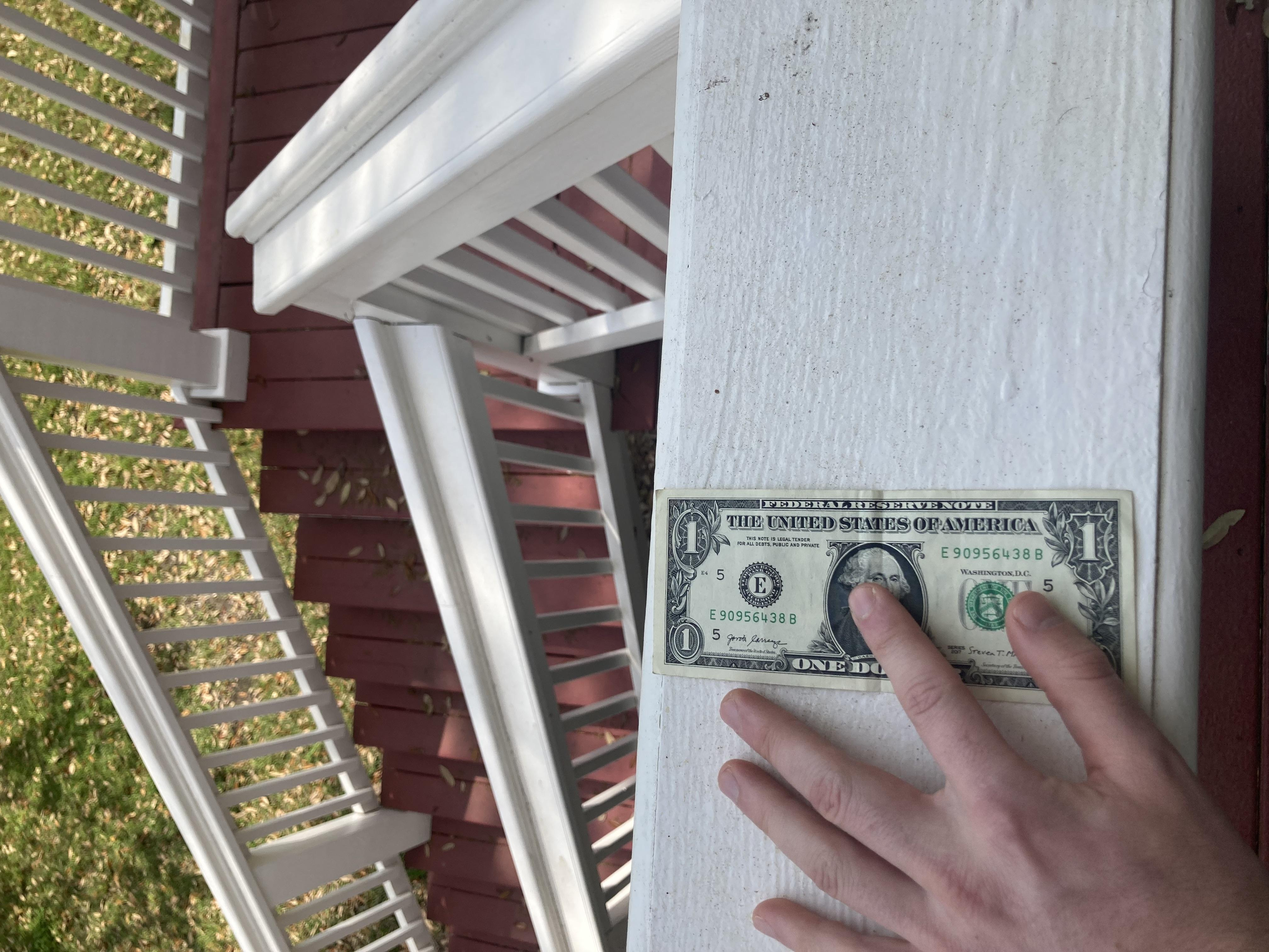one-front: (317, 490, 618, 854)
